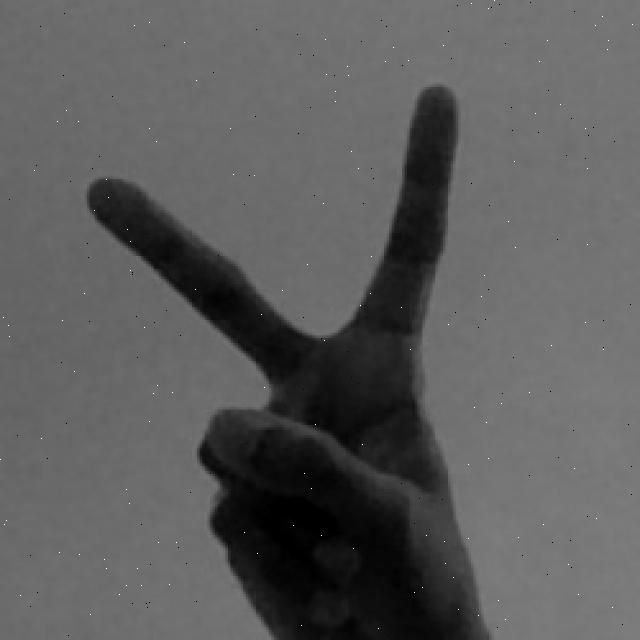V: (96, 78, 485, 640)
